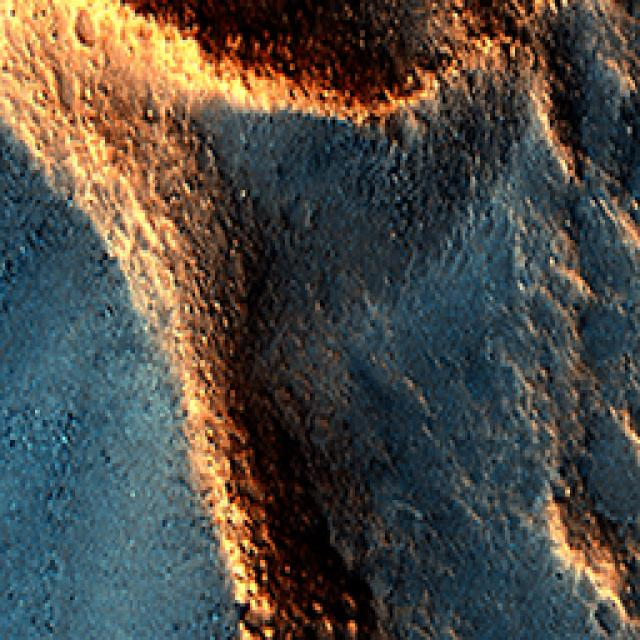Crater: (0, 0, 380, 640), (0, 0, 640, 153)
